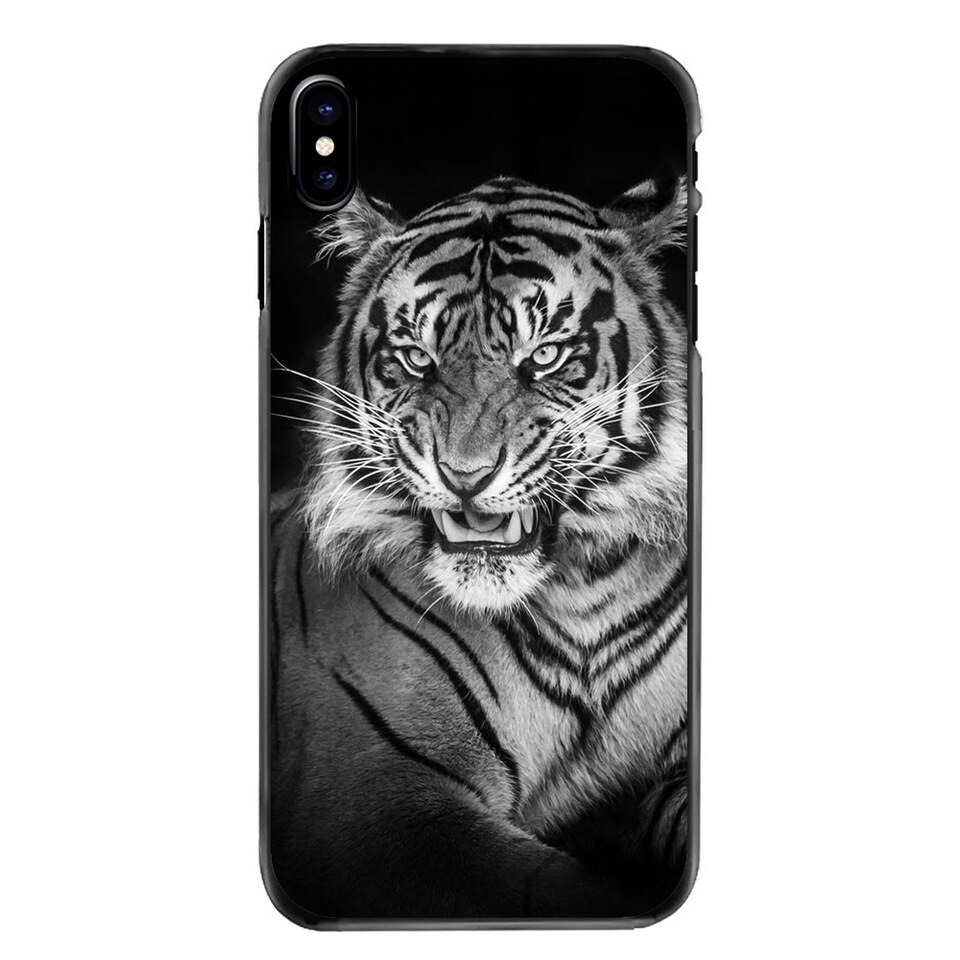Tigrew: (314, 149, 658, 742)
